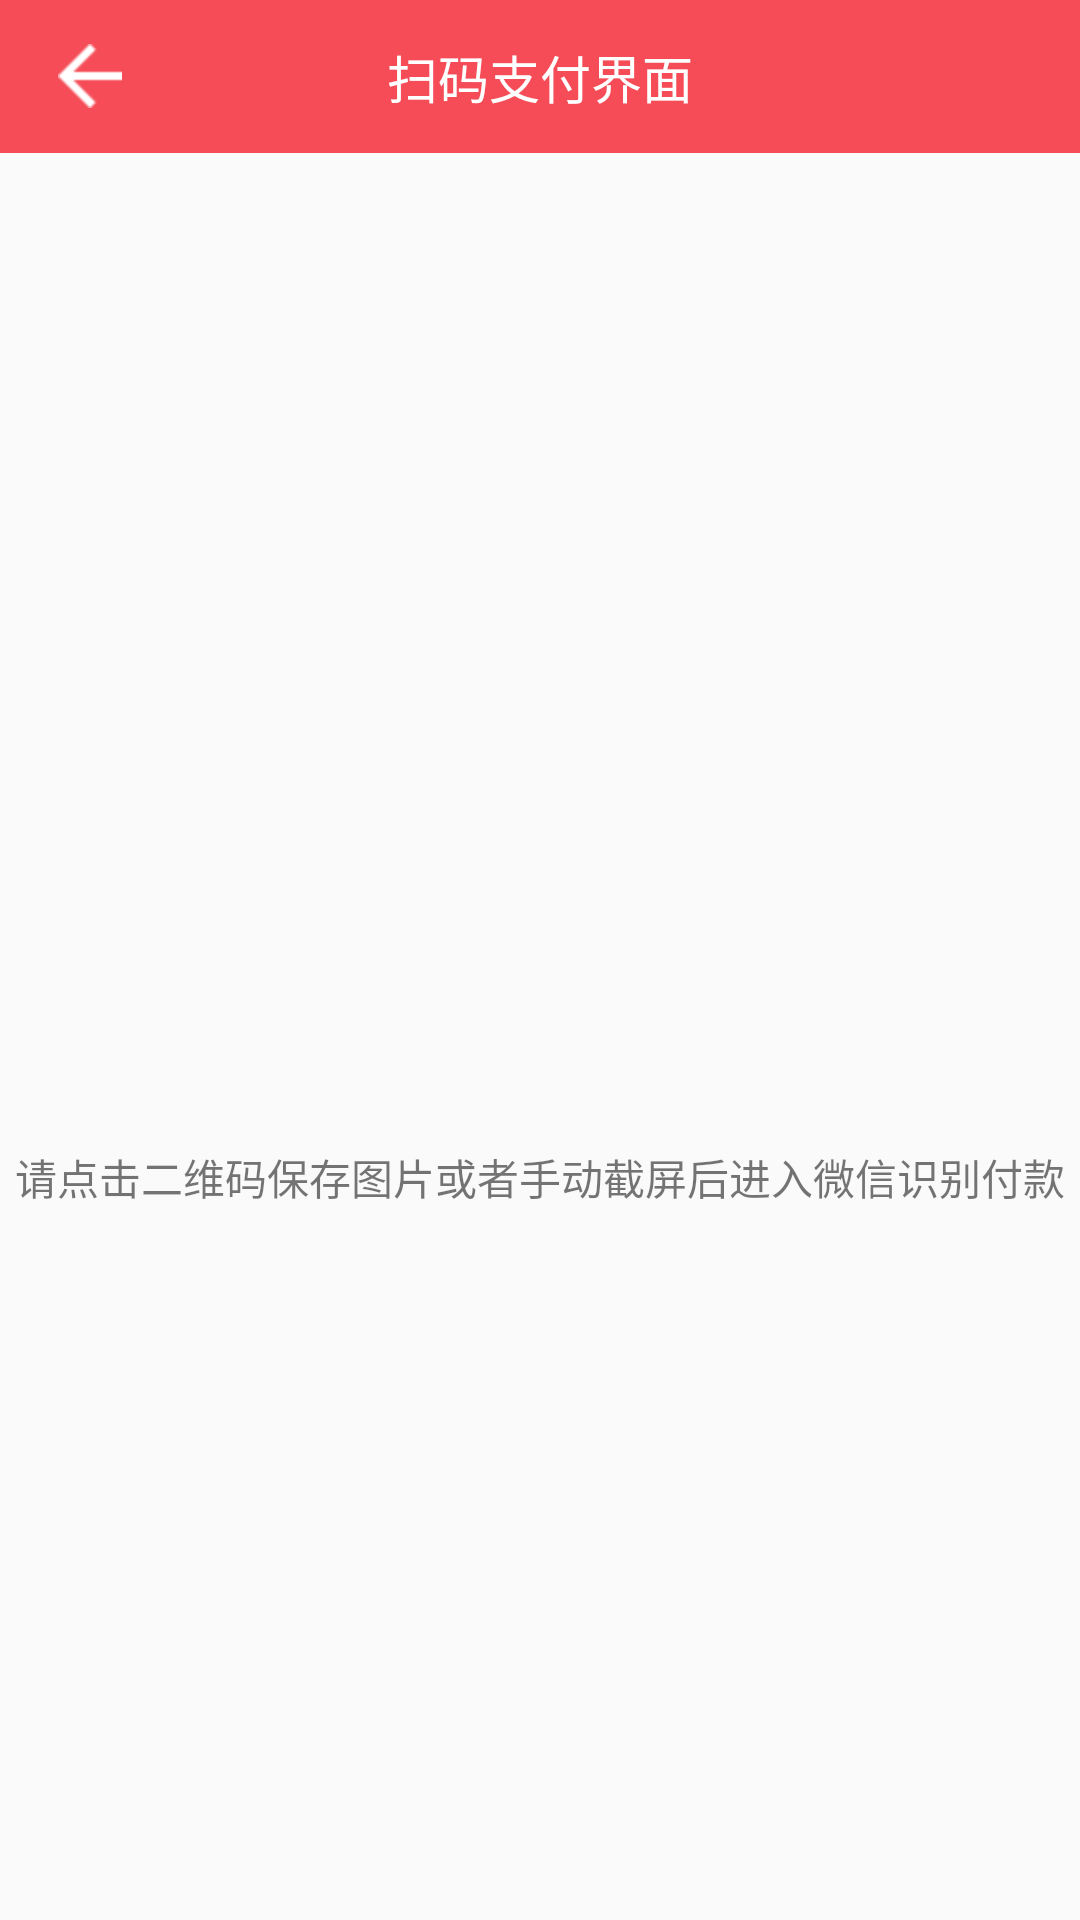

Screen size 1080x1920. Icon name, then its box in pixels as (x1, y1, x2, y2):
back: (58, 44, 122, 108)
